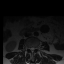CCS_normal: (31, 45, 33, 54)
LFS_normal: (35, 45, 37, 51)
LLS_normal: (33, 45, 35, 51)
RFS_normal: (27, 44, 29, 51)
RLS_normal: (29, 45, 31, 51)
